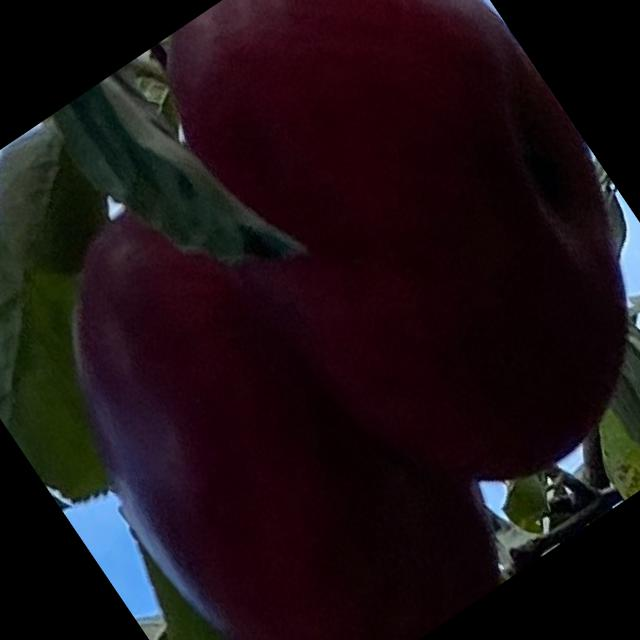Apples: (101, 0, 639, 557), (0, 129, 534, 639)
